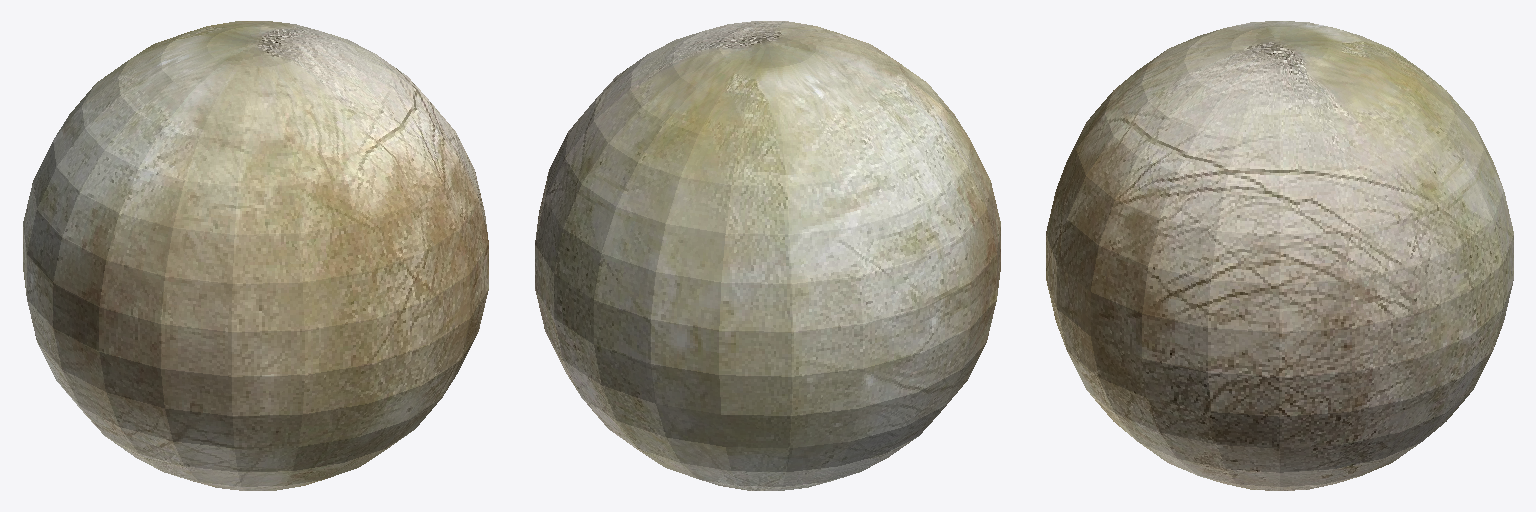
The picture shows the model from 3 angles: view 1: azimuth 30°, elevation 25°; view 2: azimuth 150°, elevation 25°; view 3: azimuth 270°, elevation 25°; orthographic projection.
Bounding box in the file's own units: 1.99 × 2 × 1.99.
Materials: 1 (1 with a texture image).